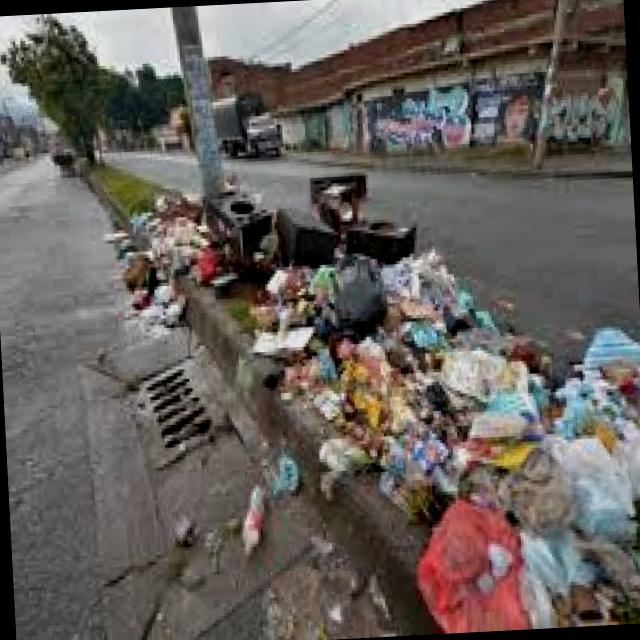garbage: (115, 147, 640, 629)
